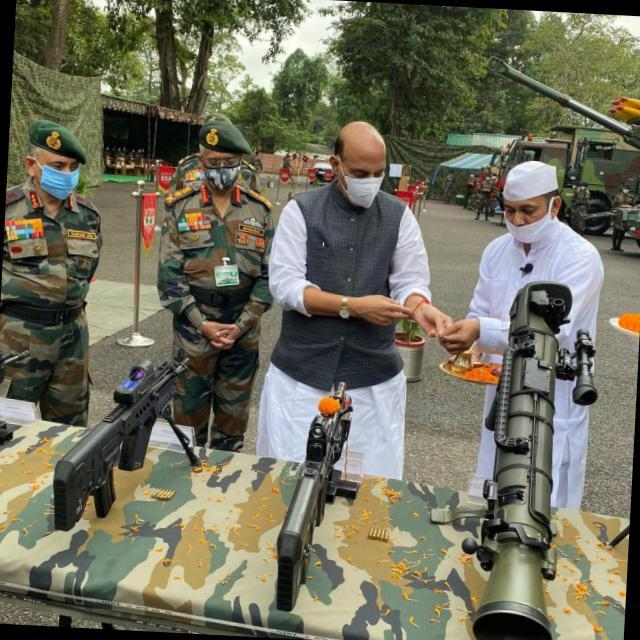rocket: (431, 279, 601, 640)
